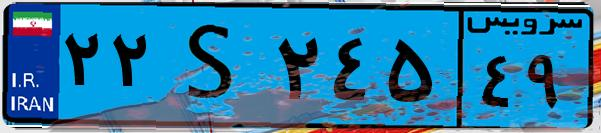2: (270, 28, 330, 110), (57, 26, 110, 100), (110, 28, 158, 98)
4: (330, 28, 385, 110), (475, 38, 525, 113)
5: (385, 28, 445, 110)
9: (525, 38, 570, 115)
S: (158, 12, 270, 120)
